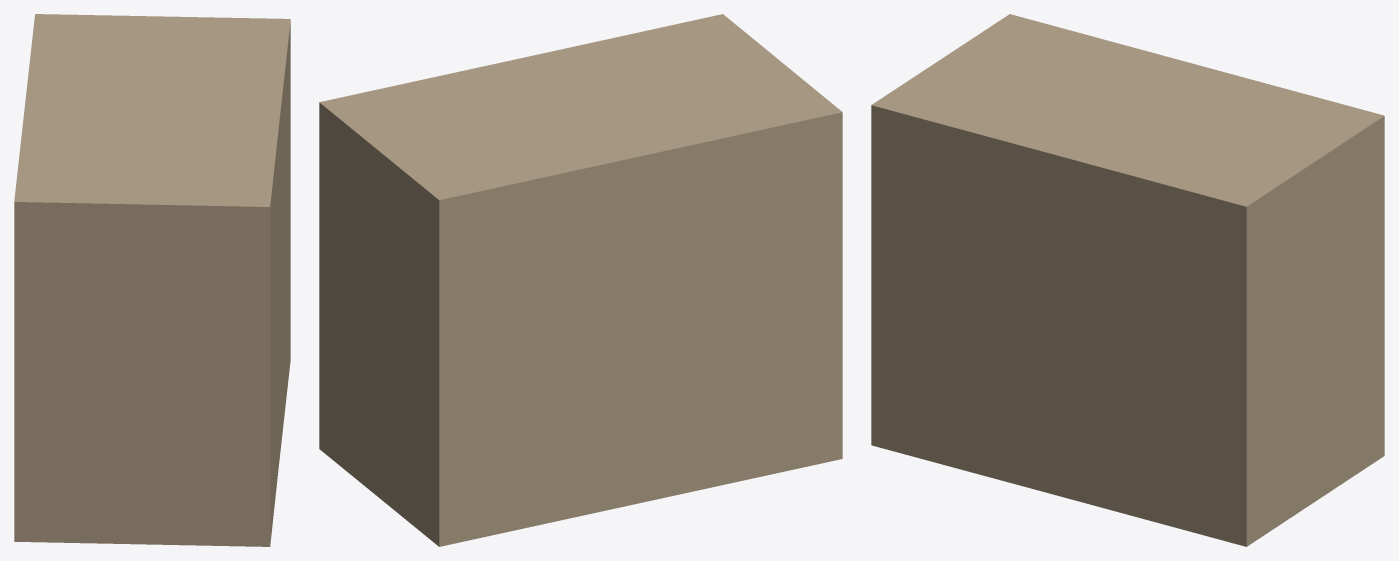
Rendered from bld_100469327.dae.
The picture shows the model from 3 angles, left to right: view 1: azimuth 30°, elevation 25°; view 2: azimuth 150°, elevation 25°; view 3: azimuth 270°, elevation 25°; orthographic projection. The views are drawn at different scales.
Parts seen in each view (by area): view 1: bld_100469327; view 2: bld_100469327; view 3: bld_100469327.
Part boxes in pixels (bbox=[...]): bld_100469327: bbox=[14, 14, 290, 546]; bld_100469327: bbox=[319, 14, 842, 546]; bld_100469327: bbox=[871, 14, 1384, 546].
Bounding box in the file's own units: 9.73 × 10.95 × 8.
